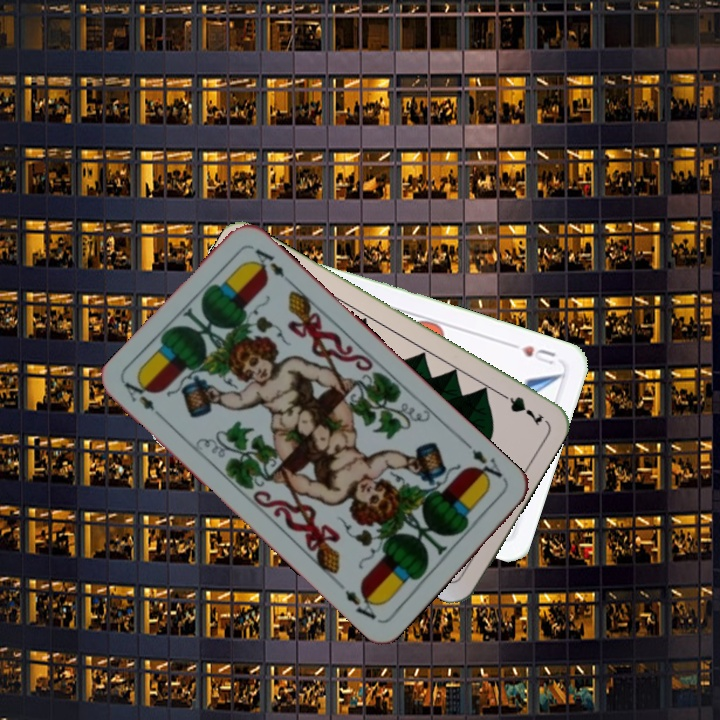EA: (120, 377, 169, 423), (462, 438, 505, 487)
G7: (493, 387, 547, 428)
HU: (517, 341, 558, 368)
